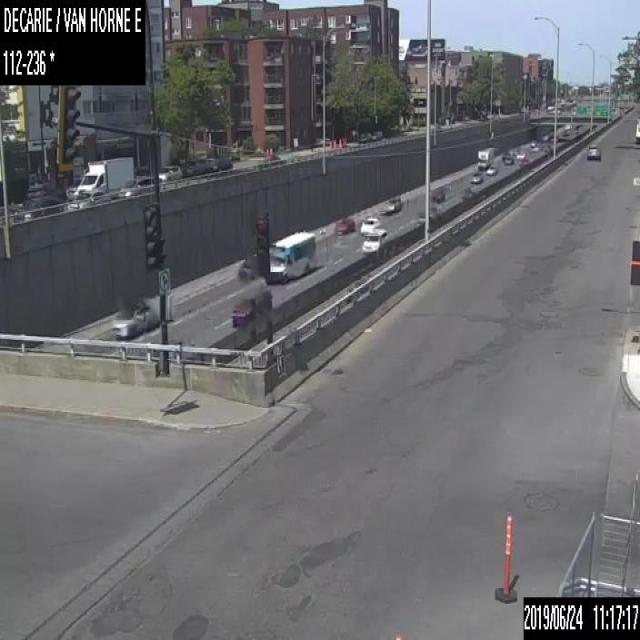bus: (264, 229, 316, 283)
construction: (493, 513, 520, 603), (264, 148, 268, 160), (268, 148, 272, 160), (337, 137, 341, 148), (333, 138, 336, 148), (328, 140, 331, 149)
vehicle: (73, 156, 133, 191), (229, 288, 271, 325), (110, 303, 155, 337), (14, 193, 62, 220), (67, 190, 109, 210), (118, 175, 156, 197), (361, 228, 389, 250), (238, 252, 260, 275), (156, 166, 181, 183), (184, 155, 205, 174), (204, 157, 232, 171), (477, 146, 494, 168), (333, 216, 352, 233), (360, 217, 380, 233), (384, 195, 400, 212), (431, 184, 446, 200), (586, 142, 600, 158), (469, 170, 483, 183), (635, 117, 639, 144), (486, 164, 496, 174), (515, 151, 525, 159), (503, 155, 512, 163), (501, 151, 510, 158), (530, 138, 537, 146)
